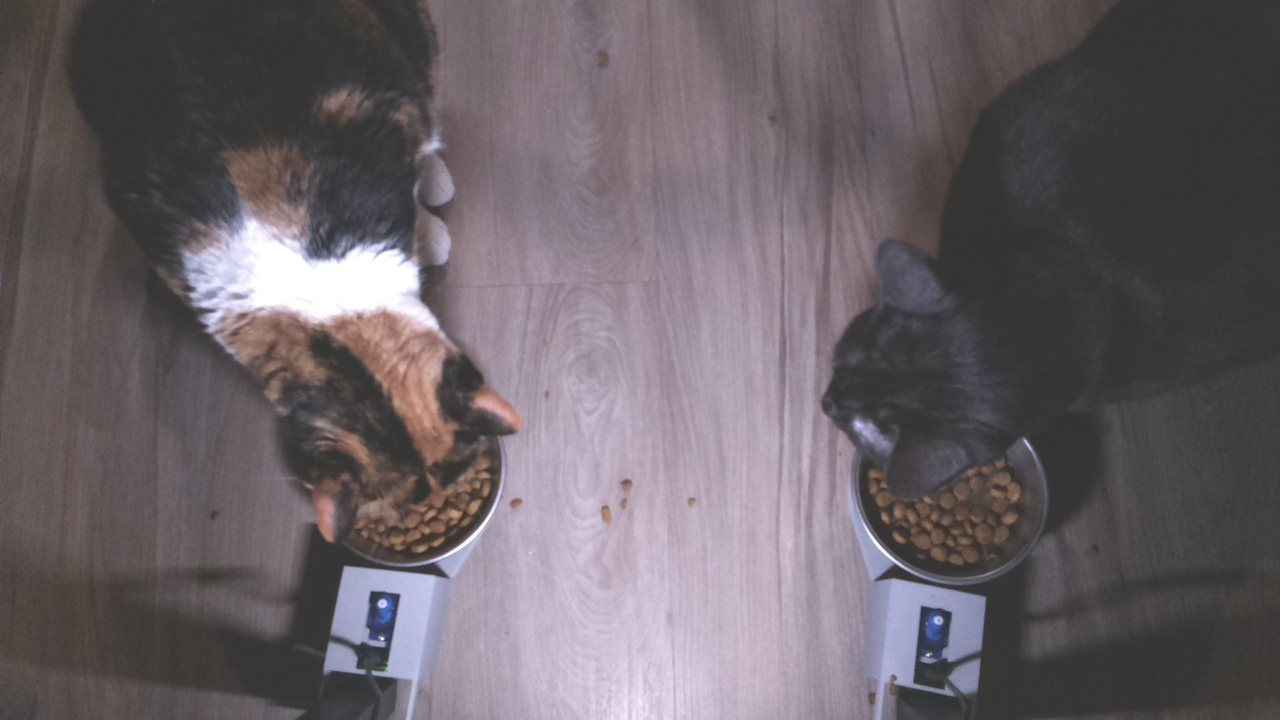bella_eating: (266, 251, 532, 584)
saki_eating: (801, 229, 1054, 591)
